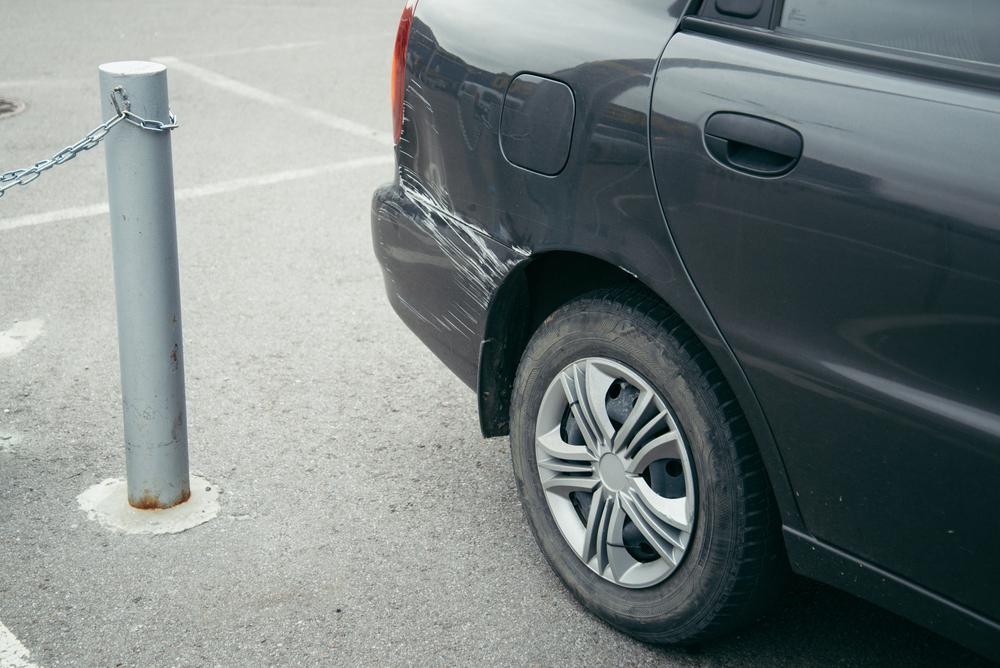dent: (399, 85, 445, 207)
scratch: (373, 189, 534, 334)
